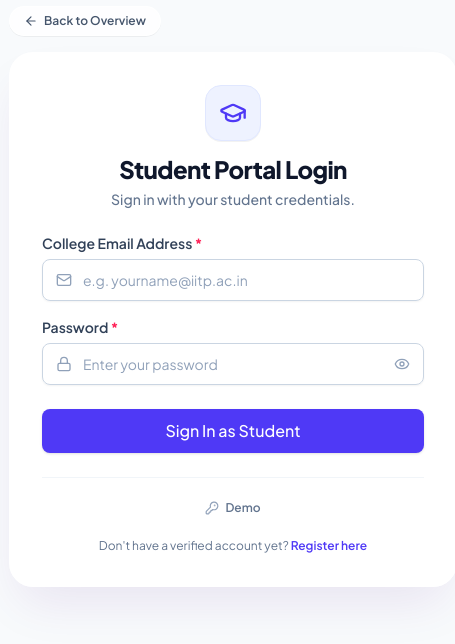
Test: StudentLoginPage › validates minimum password length
Type "student@iitp.ac.in" into the field labelled "College Email Address *" at (233, 280), box [42,259,424,301]
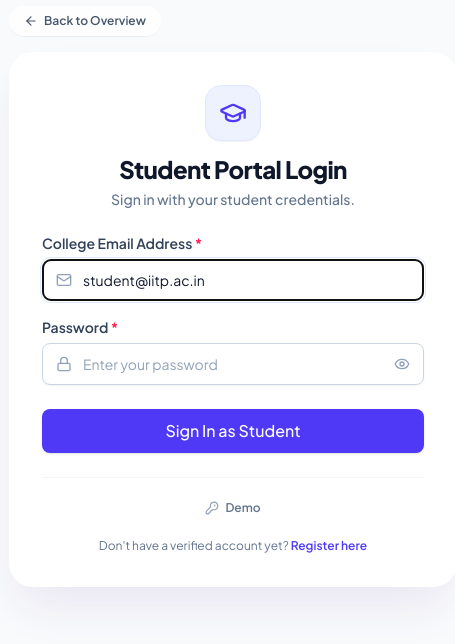
Type "123" into the password field labelled "Password *" at (233, 364), box [42,343,424,385]
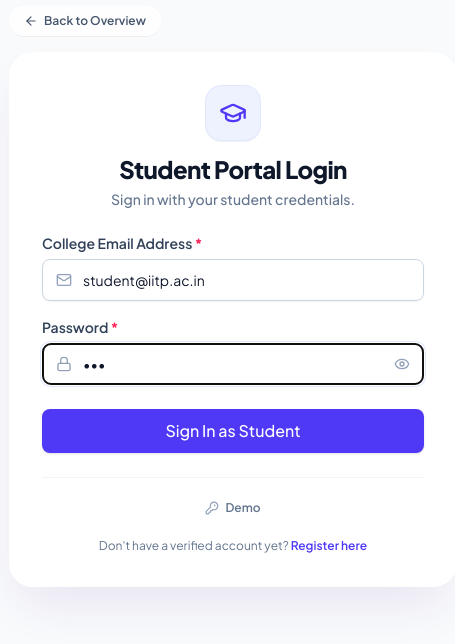
Click the button "Sign In as Student" at (233, 431), box [42,409,424,453]
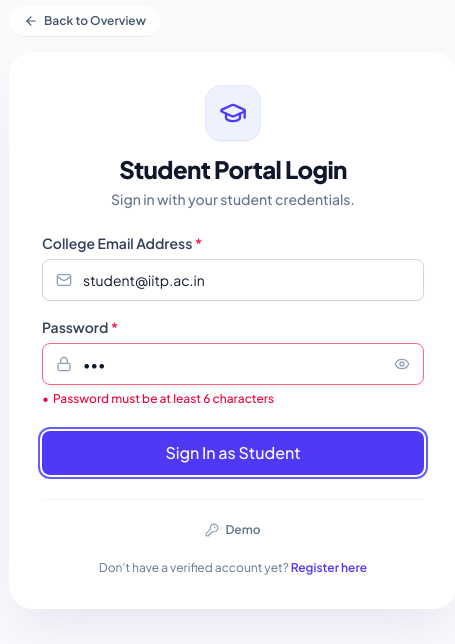
Expected: the text "• Password must be at least 6 characters" is shown, [42,391,274,406]
